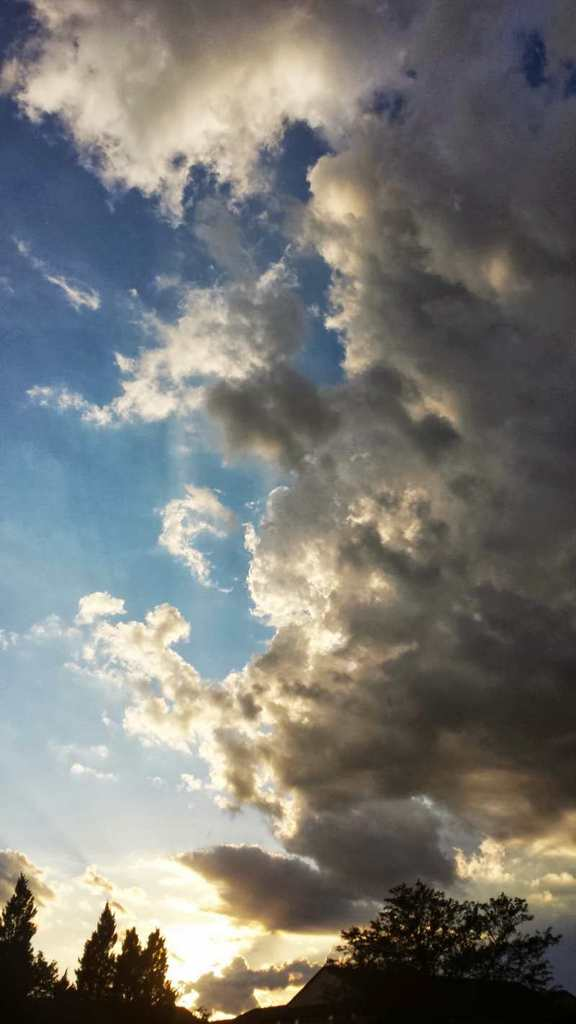Tree: (315, 873, 563, 1023), (0, 869, 206, 1021)
